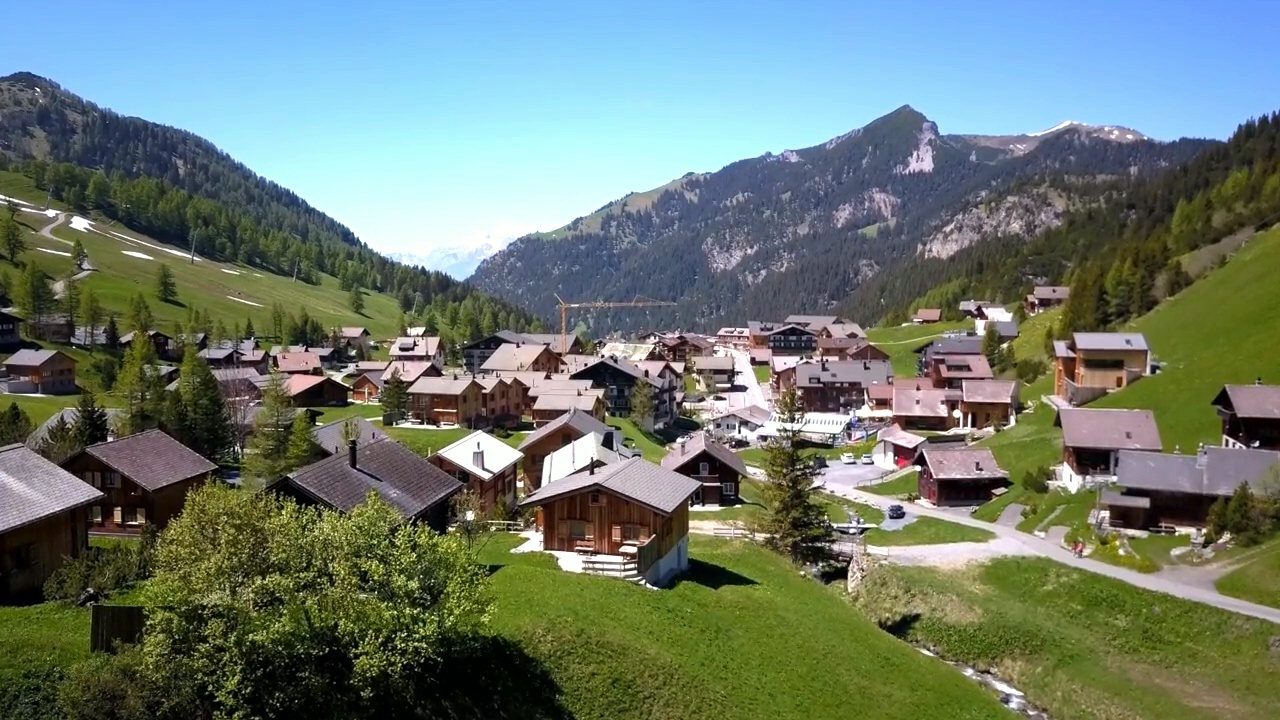araba: (887, 503, 906, 522), (838, 448, 856, 466), (863, 455, 874, 467)
